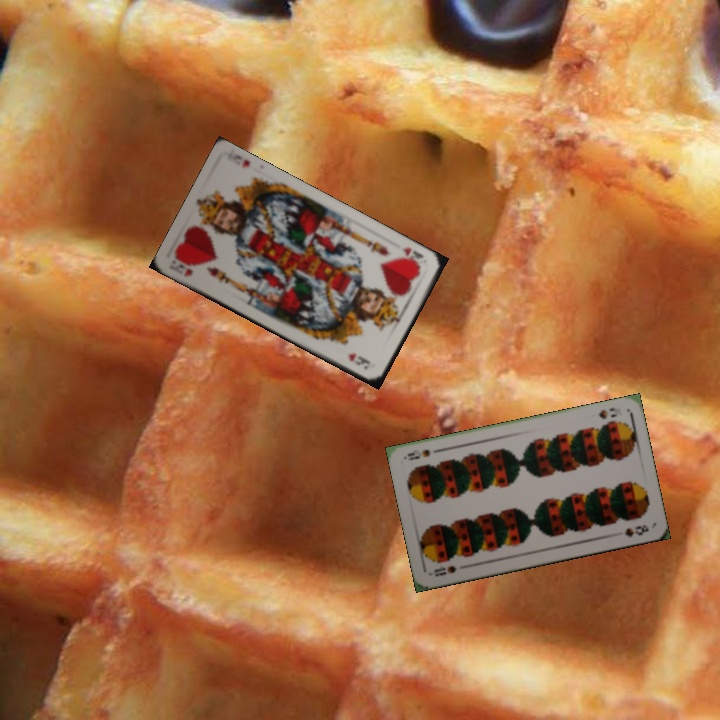HK: (397, 243, 426, 269), (170, 260, 195, 280)
S8: (430, 562, 459, 579), (595, 404, 620, 422)
